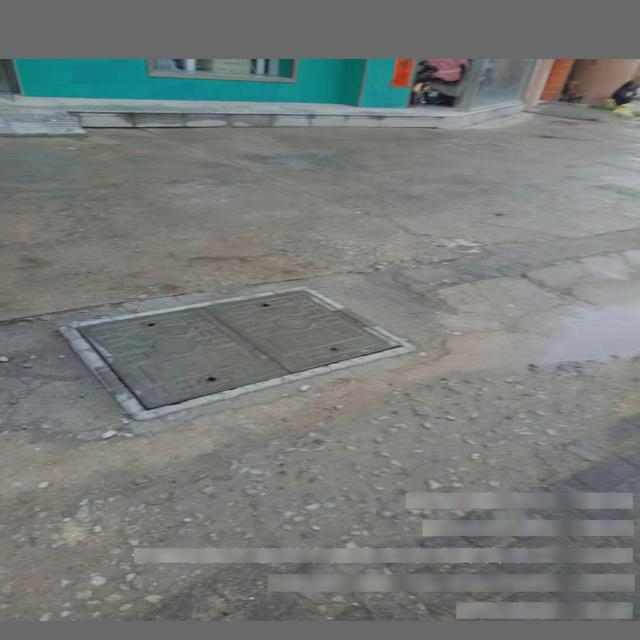good: (57, 286, 419, 419)
